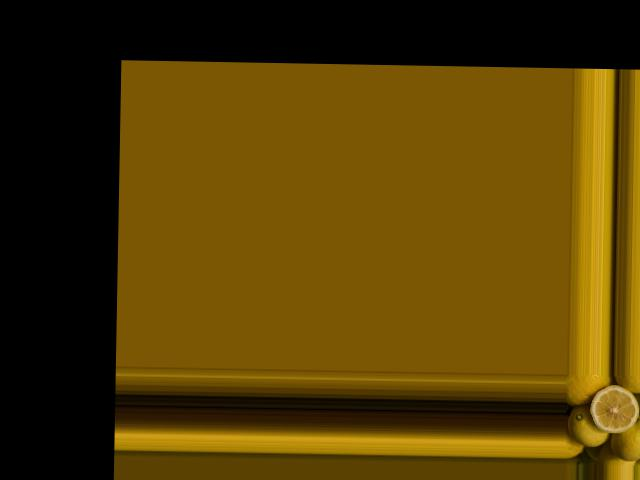lemon: (569, 407, 605, 446)
